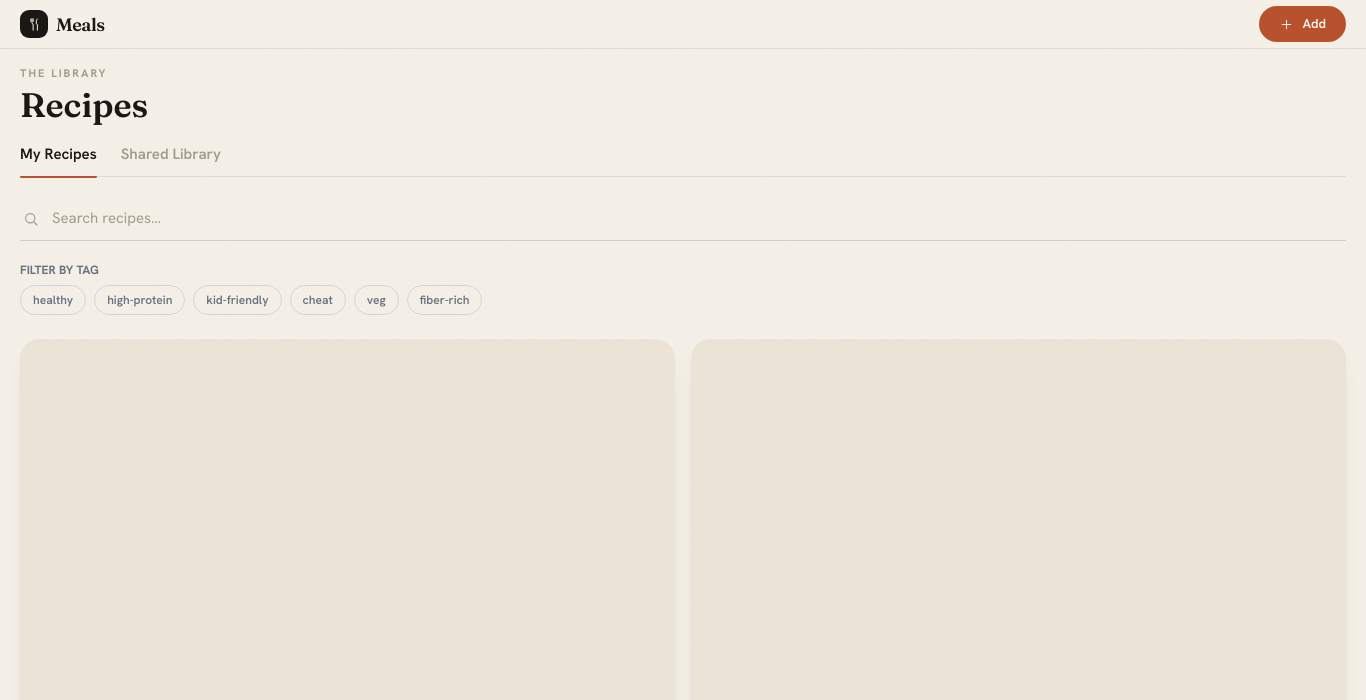
Test case: Recipes library screen › shows the base empty state when the shared library is empty
Click the tab "Shared Library": (171, 160) x1=121 y1=143 x2=221 y2=177
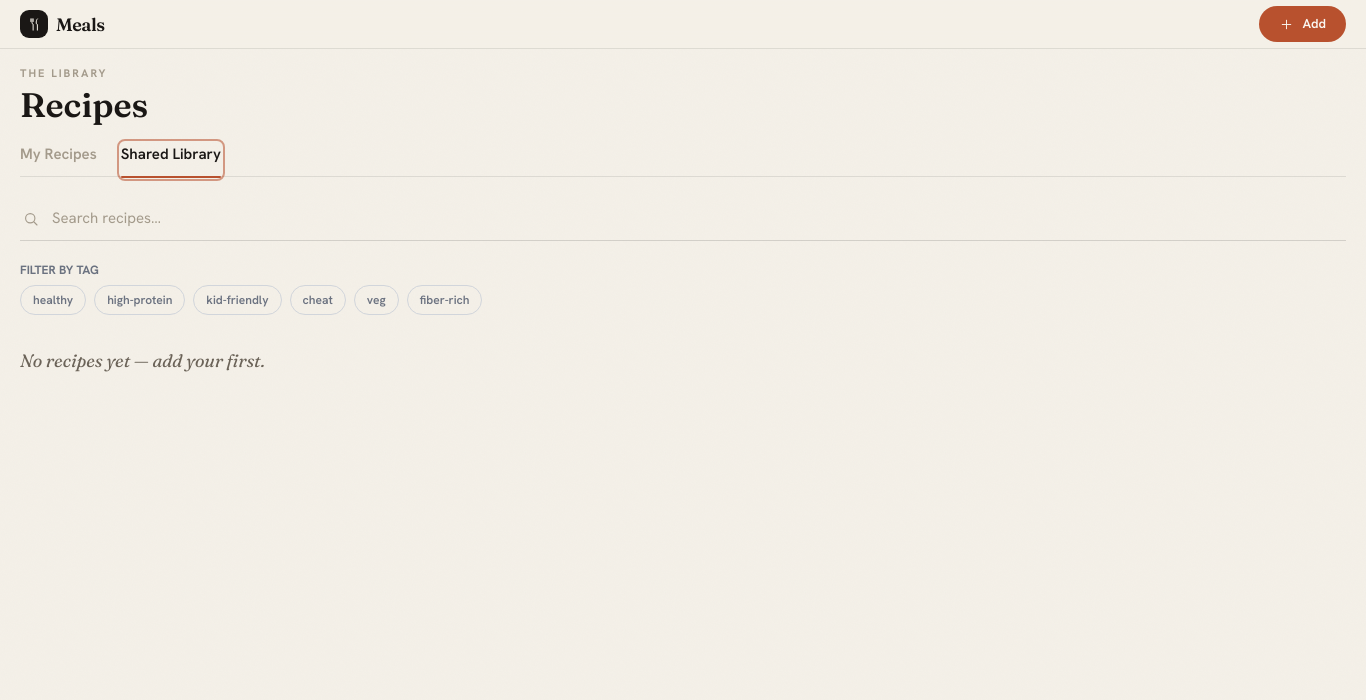
expect the text "No recipes yet — add your first." is shown: met, box x1=20 y1=349 x2=265 y2=372
